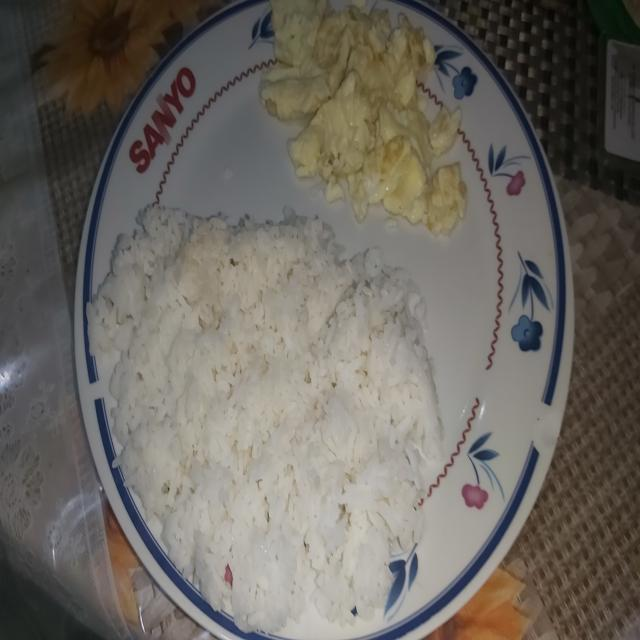Chicken -Chicken Inasal-: (97, 207, 436, 607)
